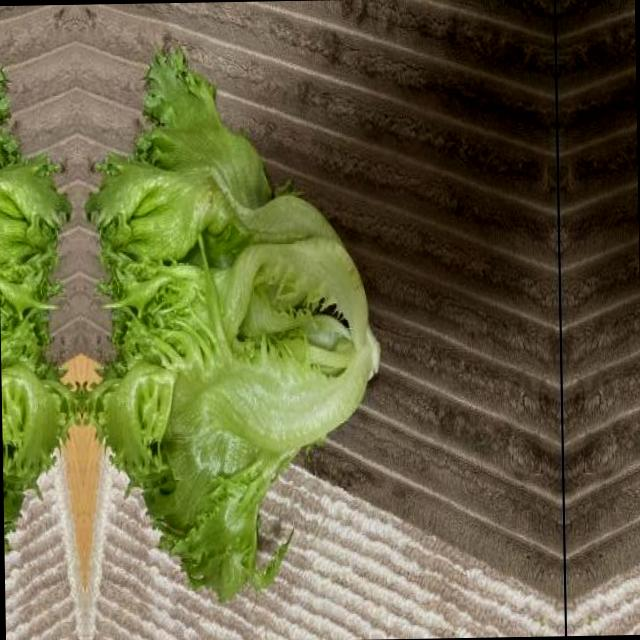healthy: (78, 32, 388, 601), (0, 37, 82, 602)
